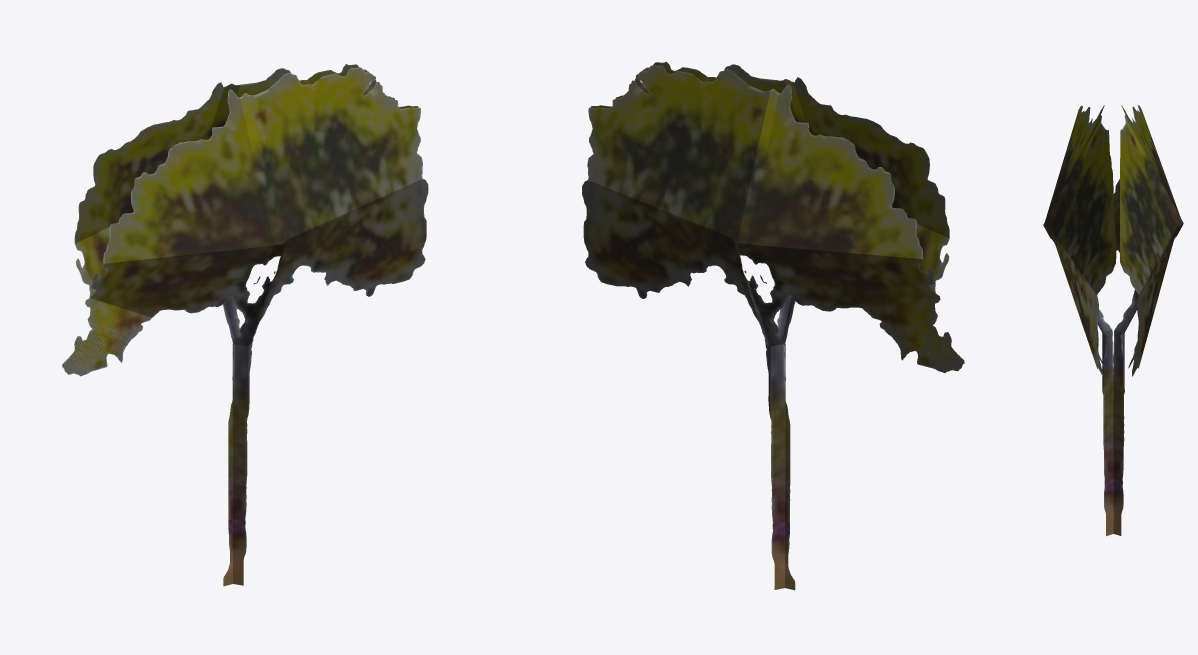
The model's file is RoadTree.fbx.
3 views of the same model, side by side, from view 1: azimuth 30°, elevation 25°; view 2: azimuth 150°, elevation 25°; view 3: azimuth 270°, elevation 25° (orthographic). The views are drawn at different scales.
Visible parts, largest first — view 1: RoadTree; view 2: RoadTree; view 3: RoadTree.
Part boxes in pixels (<box>): RoadTree: <box>62,64,428,586</box>; RoadTree: <box>582,61,964,590</box>; RoadTree: <box>1043,105,1183,536</box>.
Bounding box in the file's own units: 783 × 783 × 233.
